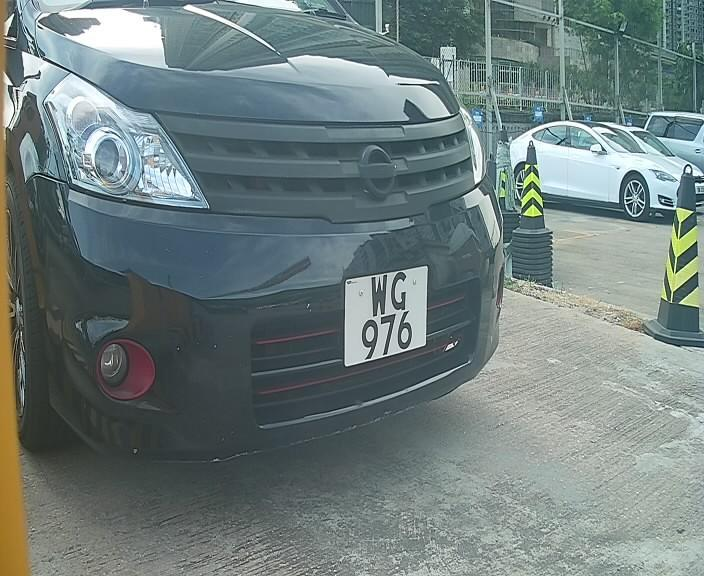privatecar: (23, 11, 529, 448)
